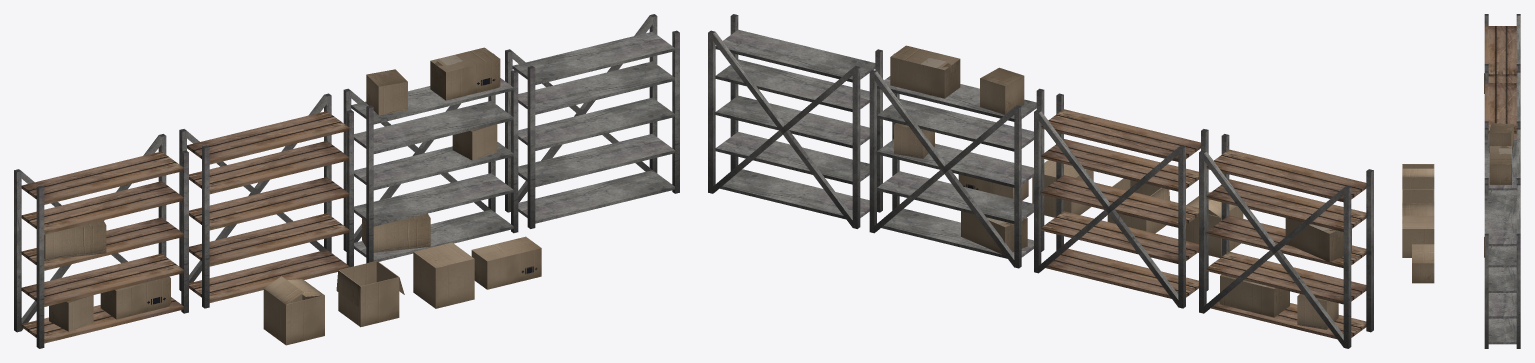
Rendered from Storage_Shelves_and_Cardboard_Boxs.fbx.
3 renders of one model, left to right at view 1: azimuth 30°, elevation 25°; view 2: azimuth 150°, elevation 25°; view 3: azimuth 270°, elevation 25°, orthographic. The views are drawn at different scales.
Visible parts, largest first — view 1: Storage_Shelves_03, Storage_Shelves_01, Storage_Shelves_04, Storage_Shelves_02, Cardboard_box_01, Cardboard_box_02, Cardboard_box_03, Cardboard_box_04; view 2: Storage_Shelves_03, Storage_Shelves_01, Storage_Shelves_04, Storage_Shelves_02, Cardboard_box_01, Cardboard_box_03, Cardboard_box_02, Cardboard_box_04; view 3: Storage_Shelves_04, Storage_Shelves_03, Storage_Shelves_01, Storage_Shelves_02, Cardboard_box_03, Cardboard_box_04, Cardboard_box_02, Cardboard_box_01.
Part boxes in pixels (box(x1,y1,x2,y2)): Storage_Shelves_03: box(343, 47, 518, 263); Storage_Shelves_01: box(14, 134, 188, 348); Storage_Shelves_04: box(505, 14, 679, 228); Storage_Shelves_02: box(179, 93, 353, 308); Cardboard_box_01: box(263, 276, 324, 345); Cardboard_box_02: box(336, 261, 404, 327); Cardboard_box_03: box(413, 242, 474, 308); Cardboard_box_04: box(471, 236, 541, 289); Storage_Shelves_03: box(869, 45, 1044, 268); Storage_Shelves_01: box(1199, 134, 1373, 348); Storage_Shelves_04: box(708, 14, 882, 228); Storage_Shelves_02: box(1034, 93, 1208, 308); Cardboard_box_01: box(1186, 192, 1243, 257); Cardboard_box_03: box(1032, 160, 1093, 217); Cardboard_box_02: box(1107, 178, 1170, 233); Cardboard_box_04: box(958, 174, 1028, 200); Storage_Shelves_04: box(1484, 183, 1520, 348); Storage_Shelves_03: box(1484, 123, 1520, 257); Storage_Shelves_01: box(1484, 14, 1520, 93); Storage_Shelves_02: box(1484, 71, 1520, 139); Cardboard_box_03: box(1402, 215, 1434, 257); Cardboard_box_04: box(1412, 244, 1434, 283); Cardboard_box_02: box(1402, 189, 1434, 215); Cardboard_box_01: box(1402, 164, 1434, 189).
Size of the model in its own units: 920 by 239 by 207.
Materials: 1 (1 with a texture image).
